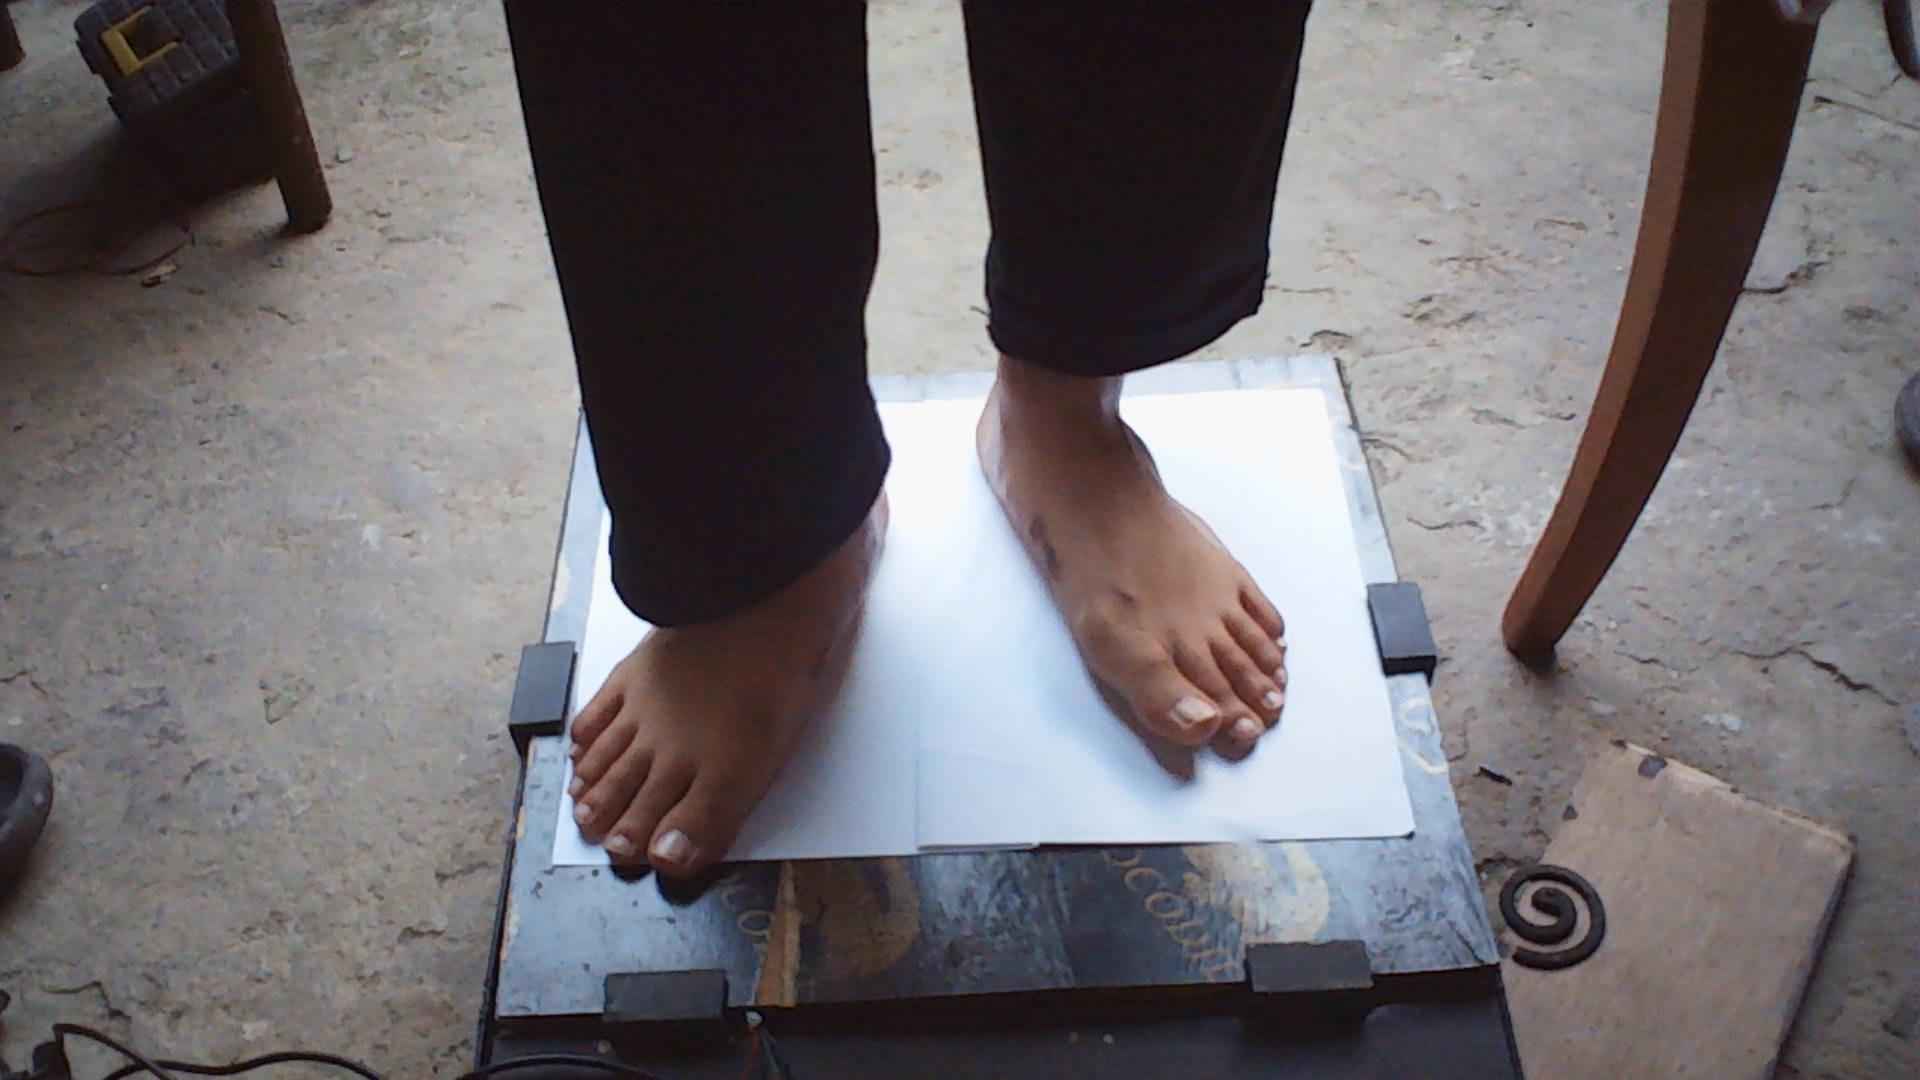Bare_feet: (949, 398, 1287, 774), (570, 607, 913, 880)
